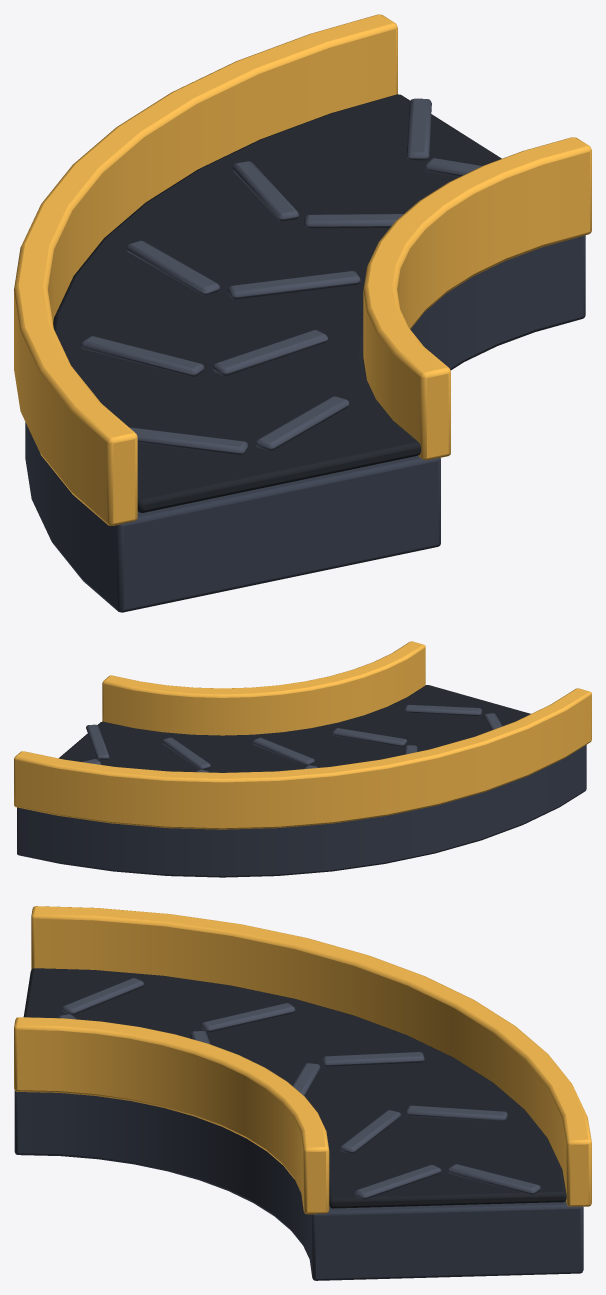
Rendered from band_kurve_90_r1_5.fbx.
3 renders of one model, top to bottom at view 1: azimuth 30°, elevation 25°; view 2: azimuth 150°, elevation 25°; view 3: azimuth 270°, elevation 25°, orthographic. The views are drawn at different scales.
Parts seen in each view (by area): view 1: band_kurve_90_r1_5_Koerper; view 2: band_kurve_90_r1_5_Koerper; view 3: band_kurve_90_r1_5_Koerper.
Boxes of the visible parts, x1,y1,x2,y2 form: band_kurve_90_r1_5_Koerper: (14, 14, 591, 612); band_kurve_90_r1_5_Koerper: (14, 641, 591, 877); band_kurve_90_r1_5_Koerper: (14, 906, 591, 1280).
Bounding box in the file's own units: 2.05 × 0.52 × 2.04.
